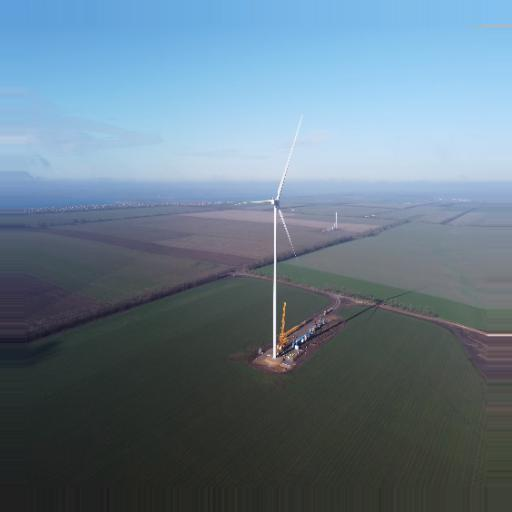wind turbine: (239, 112, 305, 359)
